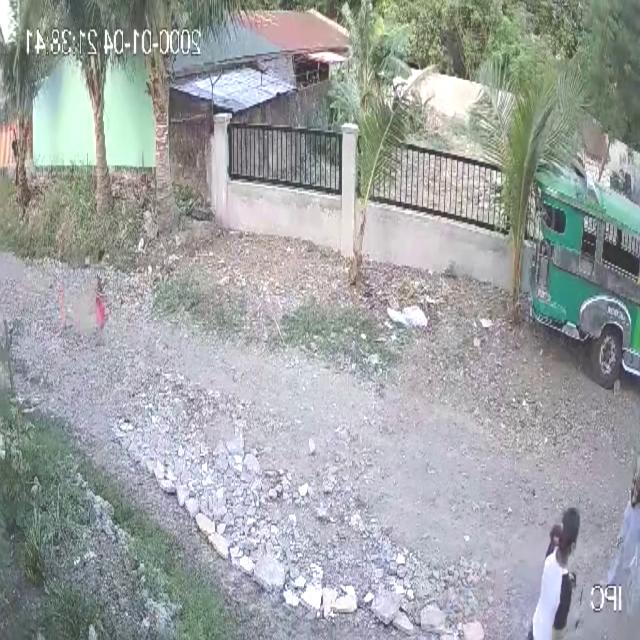running: (83, 245, 118, 356)
walking: (523, 500, 585, 640), (10, 126, 20, 190)
